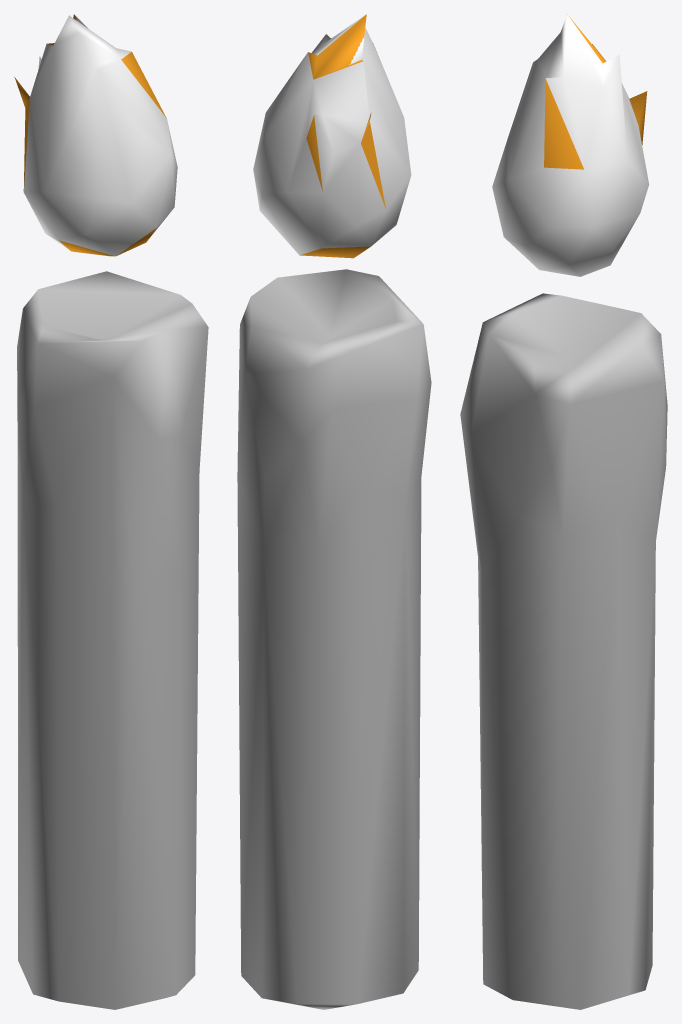
Rendered from Vela low.fbx.
The picture shows the model from 3 angles, left to right: view 1: azimuth 30°, elevation 25°; view 2: azimuth 150°, elevation 25°; view 3: azimuth 270°, elevation 25°; orthographic projection. The views are drawn at different scales.
Parts seen in each view (by area): view 1: Project:Mesh; view 2: Project:Mesh; view 3: Project:Mesh.
Part boxes in pixels (box(x1,y1,x2,y2)): Project:Mesh: box(14, 14, 208, 1009); Project:Mesh: box(237, 14, 431, 1009); Project:Mesh: box(460, 14, 667, 1009).
Size of the model in its own units: 0.1728 by 0.9086 by 0.1791.
